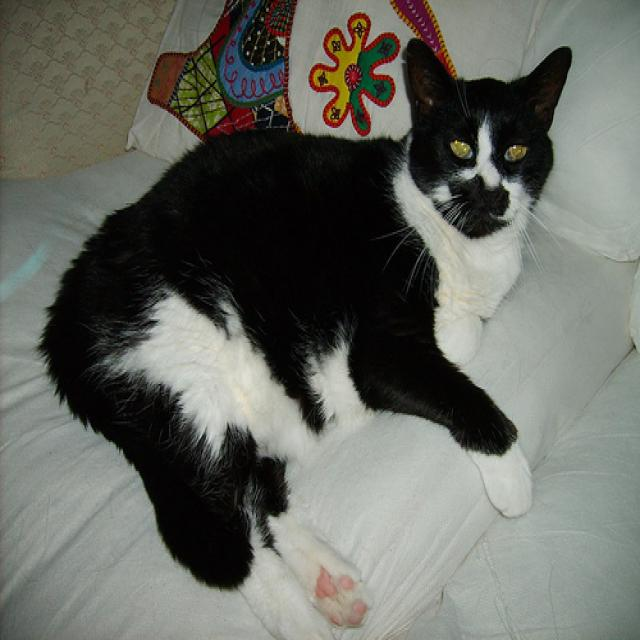cat: (37, 35, 574, 639)
